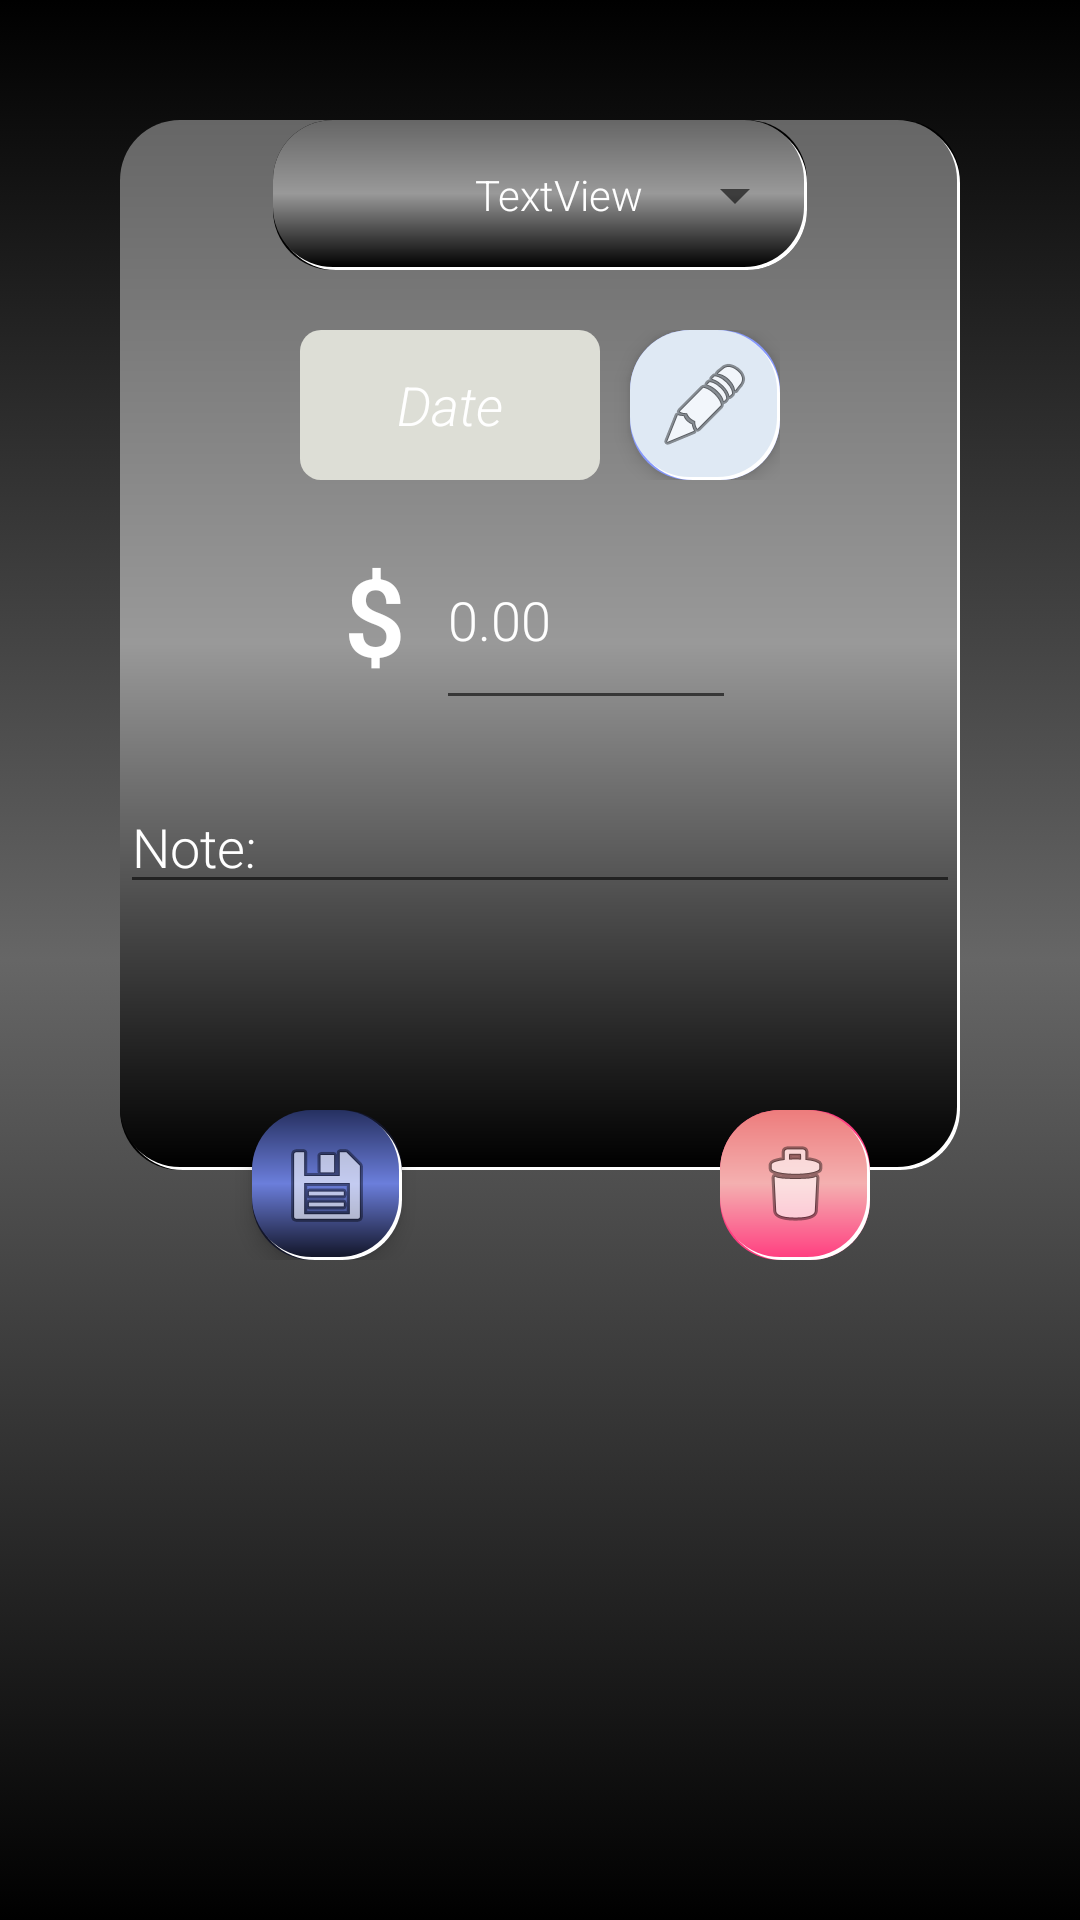

Screen size 1080*1920. Icon name, then its center in pixels as [x,y]:
delete: [795,1185]
edit: [705,405]
save: [327,1185]
